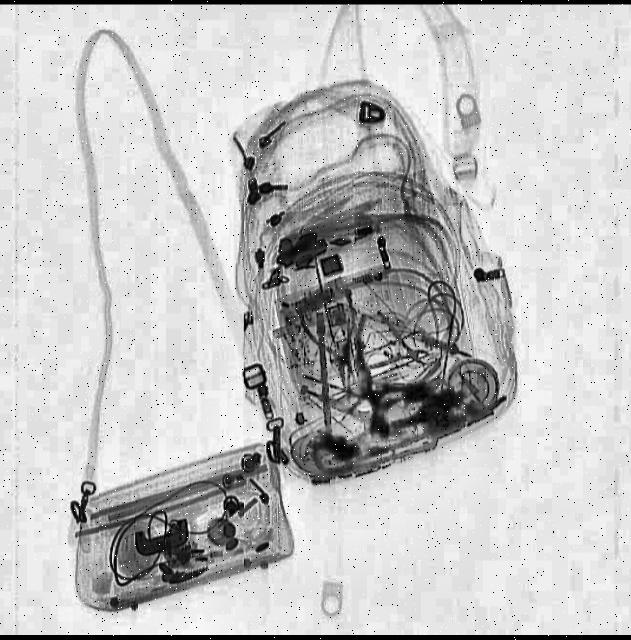Pliers: (292, 284, 376, 398)
